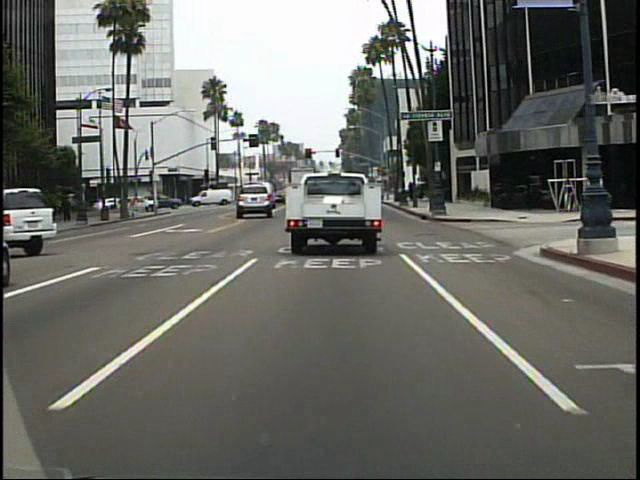person: (584, 172, 596, 213), (144, 193, 153, 213), (598, 169, 599, 218)
